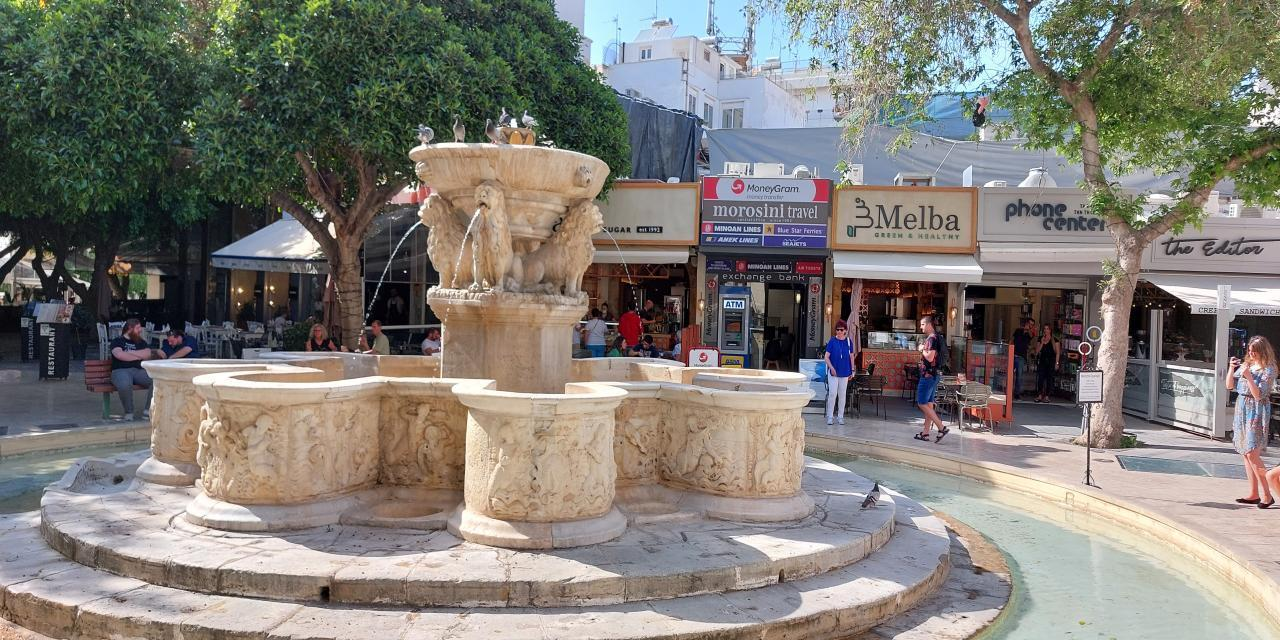Liontaria: (147, 139, 818, 554)
